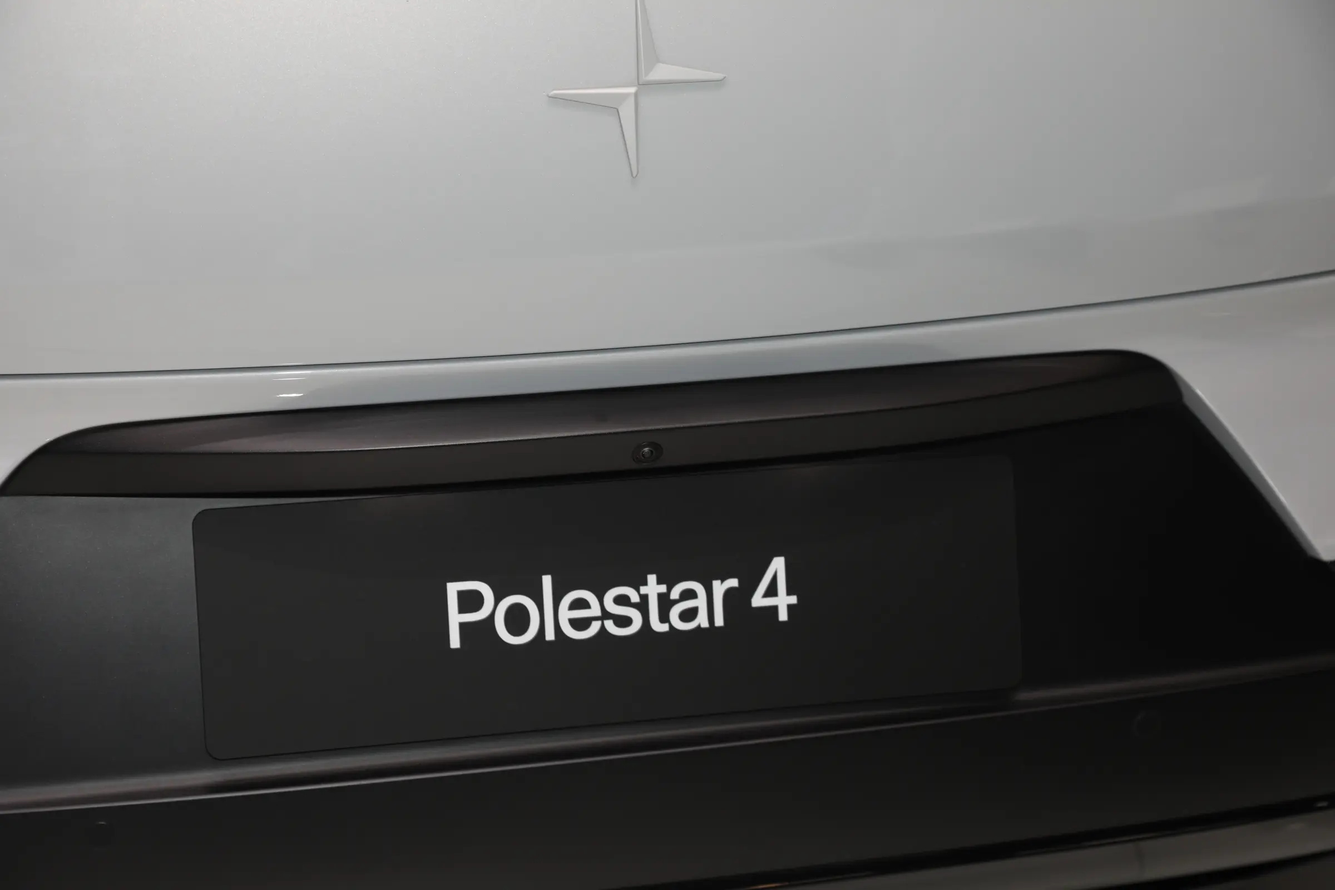Polestar: (549, 1, 726, 177)
